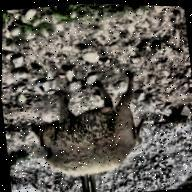boar: (18, 66, 152, 187)
